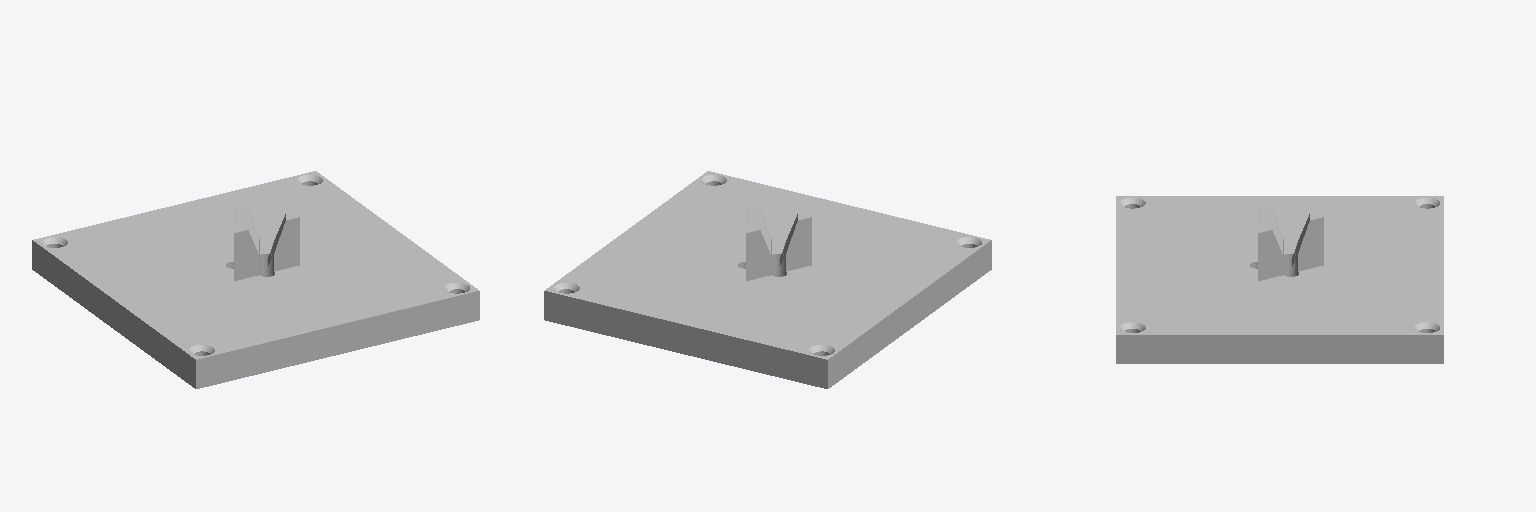
The model's file is Tetra_base_Inverted_jig.obj.
3 views of the same model, side by side, from view 1: azimuth 30°, elevation 25°; view 2: azimuth 150°, elevation 25°; view 3: azimuth 270°, elevation 25° (orthographic).
Visible parts, largest first — view 1: Base_Cube.002; view 2: Base_Cube.002; view 3: Base_Cube.002.
Part boxes in pixels (left/top/right/bottom): Base_Cube.002: left=32, top=171, right=479, bottom=388; Base_Cube.002: left=544, top=171, right=991, bottom=388; Base_Cube.002: left=1116, top=196, right=1443, bottom=363.
Size of the model in its own units: 100 by 26.29 by 100.